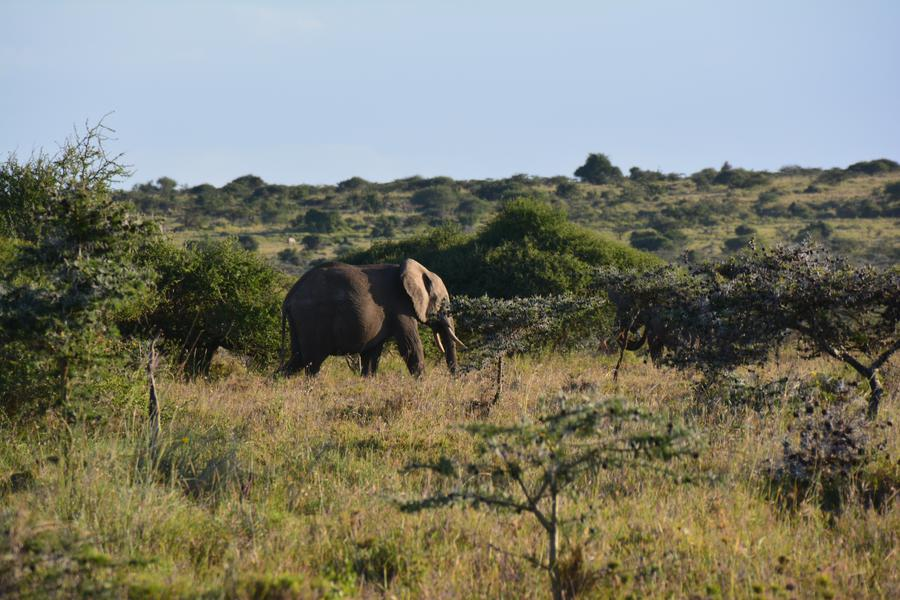elephant: (279, 259, 463, 376)
